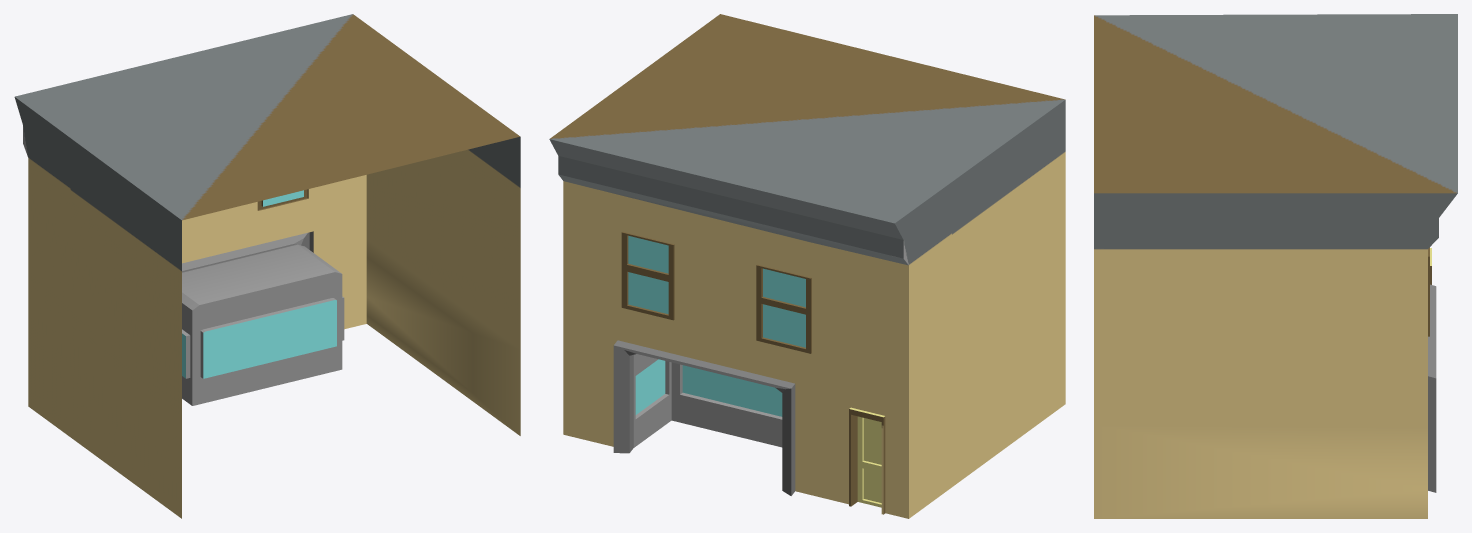
Rendered from building5.FBX.
The picture shows the model from 3 angles, left to right: view 1: azimuth 30°, elevation 25°; view 2: azimuth 150°, elevation 25°; view 3: azimuth 270°, elevation 25°; orthographic projection. The views are drawn at different scales.
Visible parts, largest first — view 1: Box014; view 2: Box014; view 3: Box014.
Boxes of the visible parts, x1,y1,x2,y2 form: Box014: [14, 14, 520, 518]; Box014: [549, 14, 1065, 518]; Box014: [1094, 14, 1457, 518].
Size of the model in its own units: 1037 by 883 by 889.
Materials: 1 (1 with a texture image).
